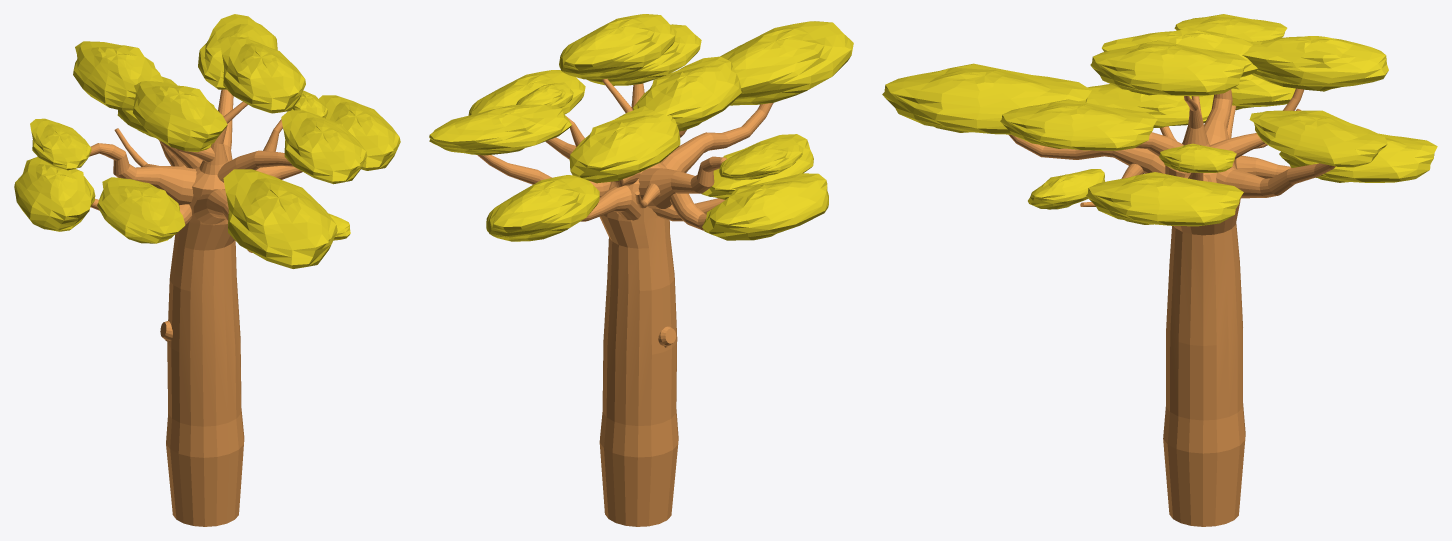
The model's file is savanaTree.fbx.
The picture shows the model from 3 angles, left to right: view 1: azimuth 30°, elevation 25°; view 2: azimuth 150°, elevation 25°; view 3: azimuth 270°, elevation 25°; orthographic projection. The views are drawn at different scales.
Parts seen in each view (by area): view 1: Sphere_024.001; view 2: Sphere_024.001; view 3: Sphere_024.001.
Boxes of the visible parts, x1,y1,x2,y2 form: Sphere_024.001: [14, 14, 400, 526]; Sphere_024.001: [429, 14, 853, 526]; Sphere_024.001: [882, 14, 1437, 526].
Bounding box in the file's own units: 624 × 786 × 817.
